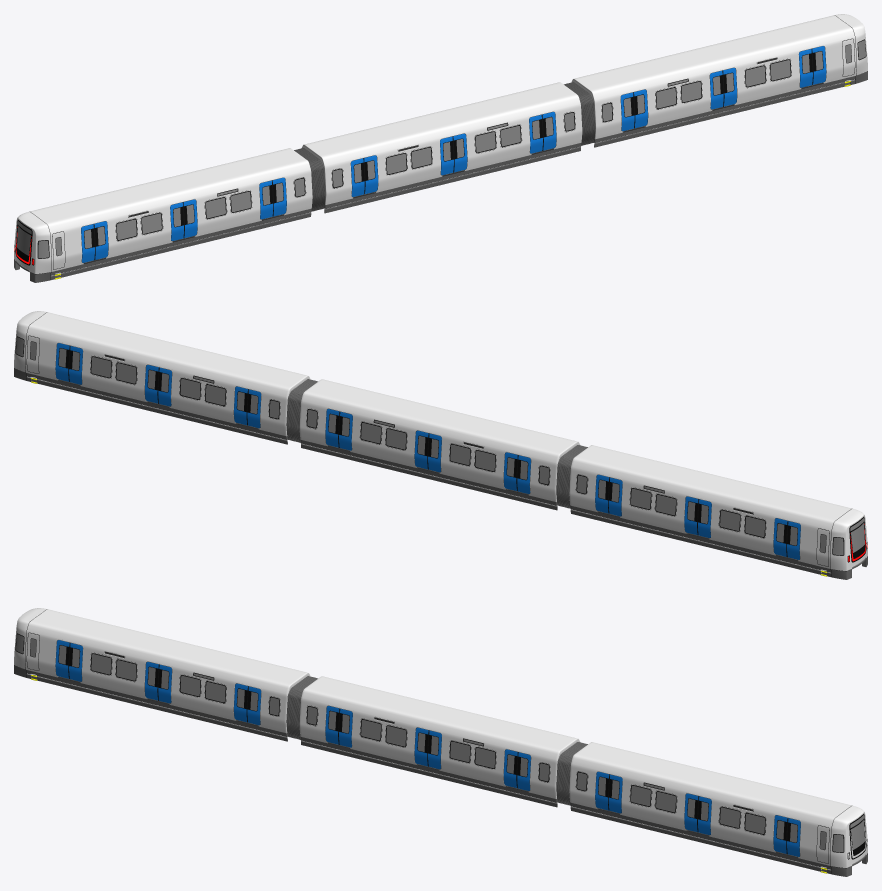
Rendered from SubwayNew.fbx.
3 views of the same model, one above another, from view 1: azimuth 30°, elevation 25°; view 2: azimuth 150°, elevation 25°; view 3: azimuth 330°, elevation 25° (orthographic).
Parts seen in each view (by area): view 1: Metro_coach_1.004, Metro_coach_1.003, Metro_coach_2.003; view 2: Metro_coach_1.004, Metro_coach_1.003, Metro_coach_2.003; view 3: Metro_coach_1.003, Metro_coach_1.004, Metro_coach_2.003.
Part boxes in pixels (box(x1,y1,x2,y2)): Metro_coach_1.004: box(14, 148, 312, 282); Metro_coach_1.003: box(564, 14, 867, 147); Metro_coach_2.003: box(294, 82, 582, 213); Metro_coach_1.004: box(569, 445, 867, 579); Metro_coach_1.003: box(14, 311, 317, 444); Metro_coach_2.003: box(299, 379, 587, 510); Metro_coach_1.003: box(556, 742, 867, 876); Metro_coach_1.004: box(14, 608, 310, 741); Metro_coach_2.003: box(286, 676, 579, 807).
Bounding box in the file's own units: 52.71 × 3.24 × 2.9.
